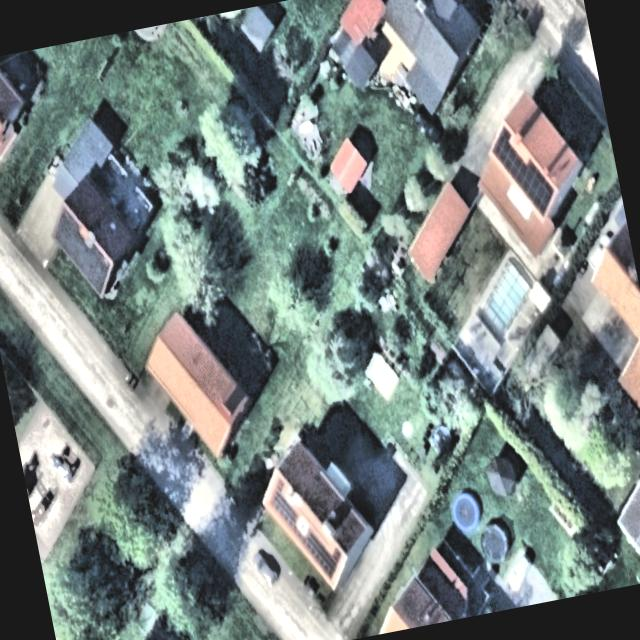roof_pv: (508, 154, 558, 222), (484, 118, 528, 188), (304, 523, 346, 586), (46, 202, 88, 260), (72, 242, 115, 298), (262, 474, 301, 534), (292, 526, 308, 548)
